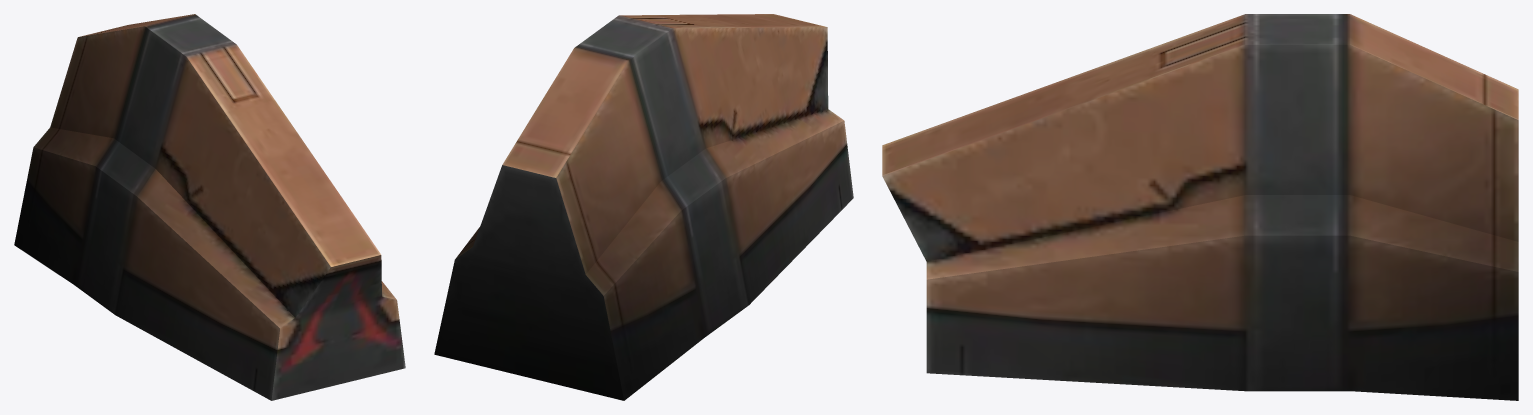
The picture shows the model from 3 angles, left to right: view 1: azimuth 30°, elevation 25°; view 2: azimuth 150°, elevation 25°; view 3: azimuth 270°, elevation 25°; orthographic projection. The views are drawn at different scales.
Parts seen in each view (by area): view 1: c90_144_00 head; view 2: c90_144_00 head; view 3: c90_144_00 head.
Part boxes in pixels (x1,y1,x2,y2): c90_144_00 head: (14, 14, 405, 400); c90_144_00 head: (434, 14, 853, 400); c90_144_00 head: (882, 14, 1518, 400).
Bounding box in the file's own units: 1.38 × 1.72 × 3.14.
Materials: 1 (1 with a texture image).
